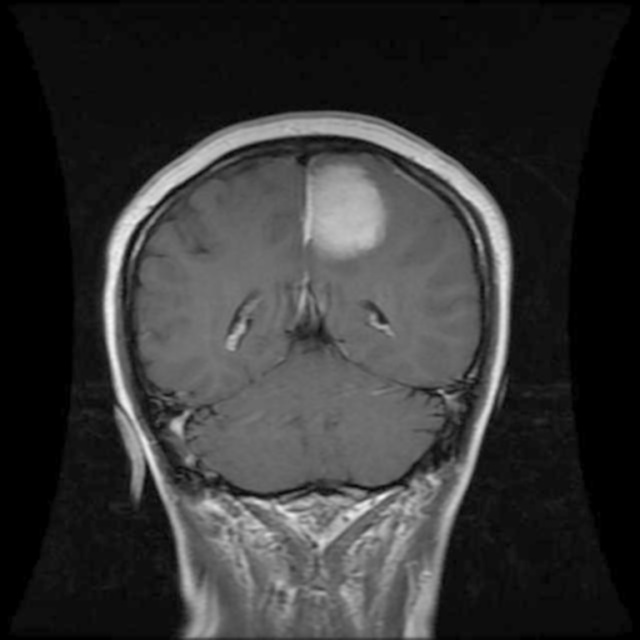meningioma tumor: (286, 156, 406, 272)
